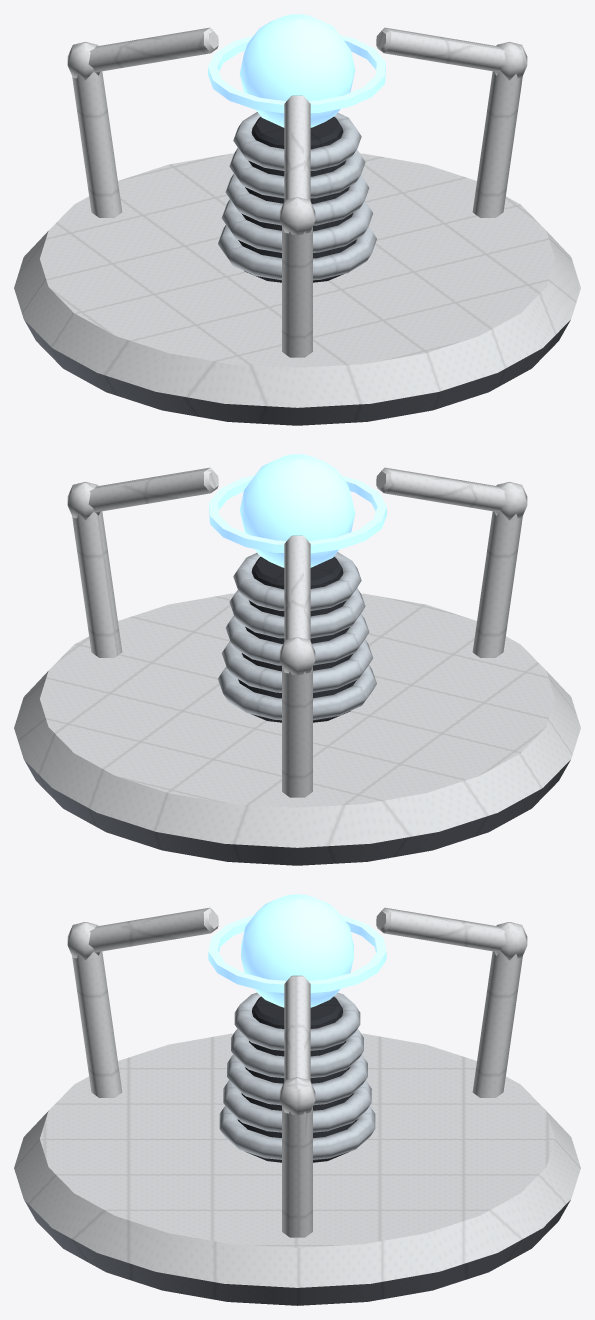
Rendered from R4D_EMPTrap.glb.
3 renders of one model, top to bottom at view 1: azimuth 30°, elevation 25°; view 2: azimuth 150°, elevation 25°; view 3: azimuth 270°, elevation 25°, orthographic.
Parts seen in each view (by area): view 1: R4D_EMPTrap_Body, R4D_EMPTrap_Core; view 2: R4D_EMPTrap_Body, R4D_EMPTrap_Core; view 3: R4D_EMPTrap_Body, R4D_EMPTrap_Core.
Boxes of the visible parts, left/top/right/bottom form: R4D_EMPTrap_Body: left=14, top=27, right=580, bottom=425; R4D_EMPTrap_Core: left=208, top=14, right=385, bottom=127; R4D_EMPTrap_Body: left=14, top=467, right=580, bottom=865; R4D_EMPTrap_Core: left=209, top=454, right=386, bottom=567; R4D_EMPTrap_Body: left=14, top=907, right=580, bottom=1305; R4D_EMPTrap_Core: left=208, top=894, right=386, bottom=1007.
Size of the model in its own units: 0.44 by 0.25 by 0.44.
5 materials, 4 textured.
